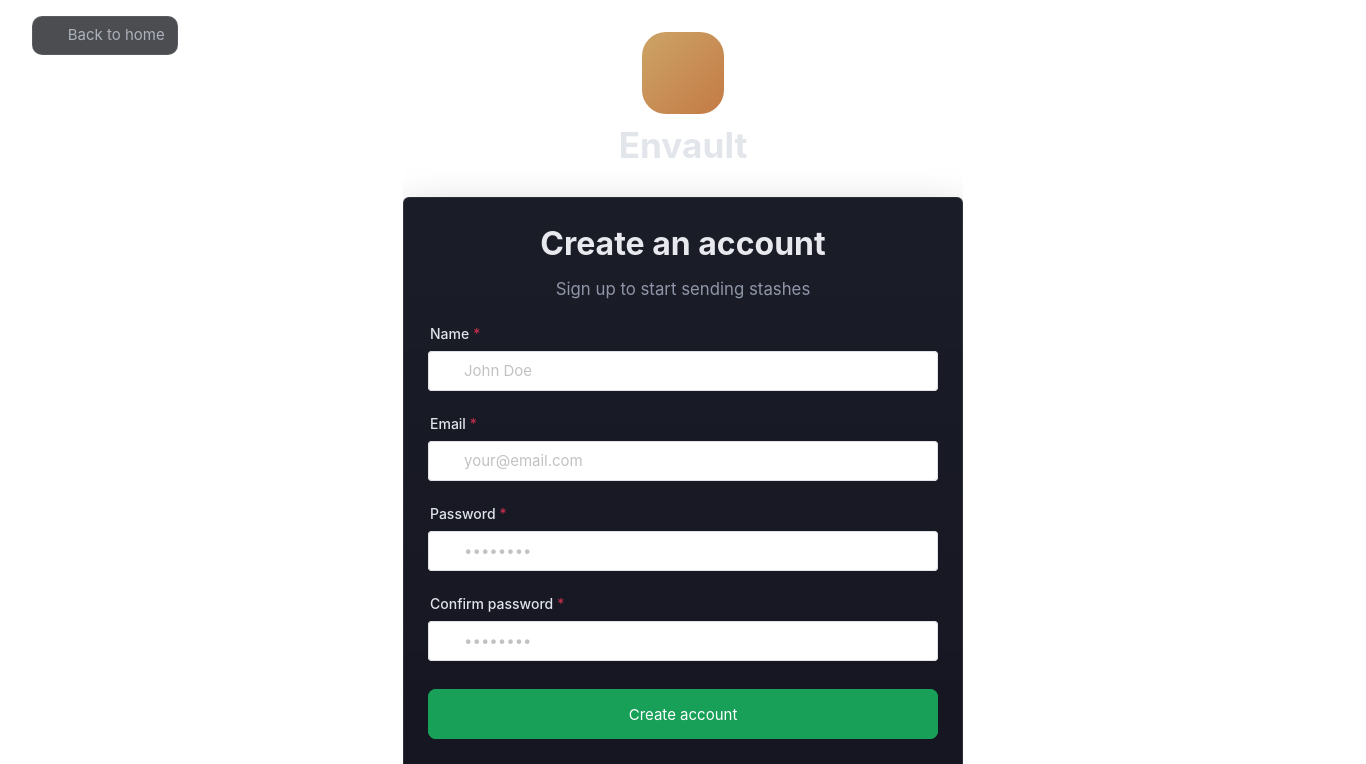
Test: RegisterView.vue › maps known field errors from the server onto the form
The image size is (1366, 764).
Type "Alice" into the field with placeholder "John Doe" at (694, 371), box [464,351,924,391]
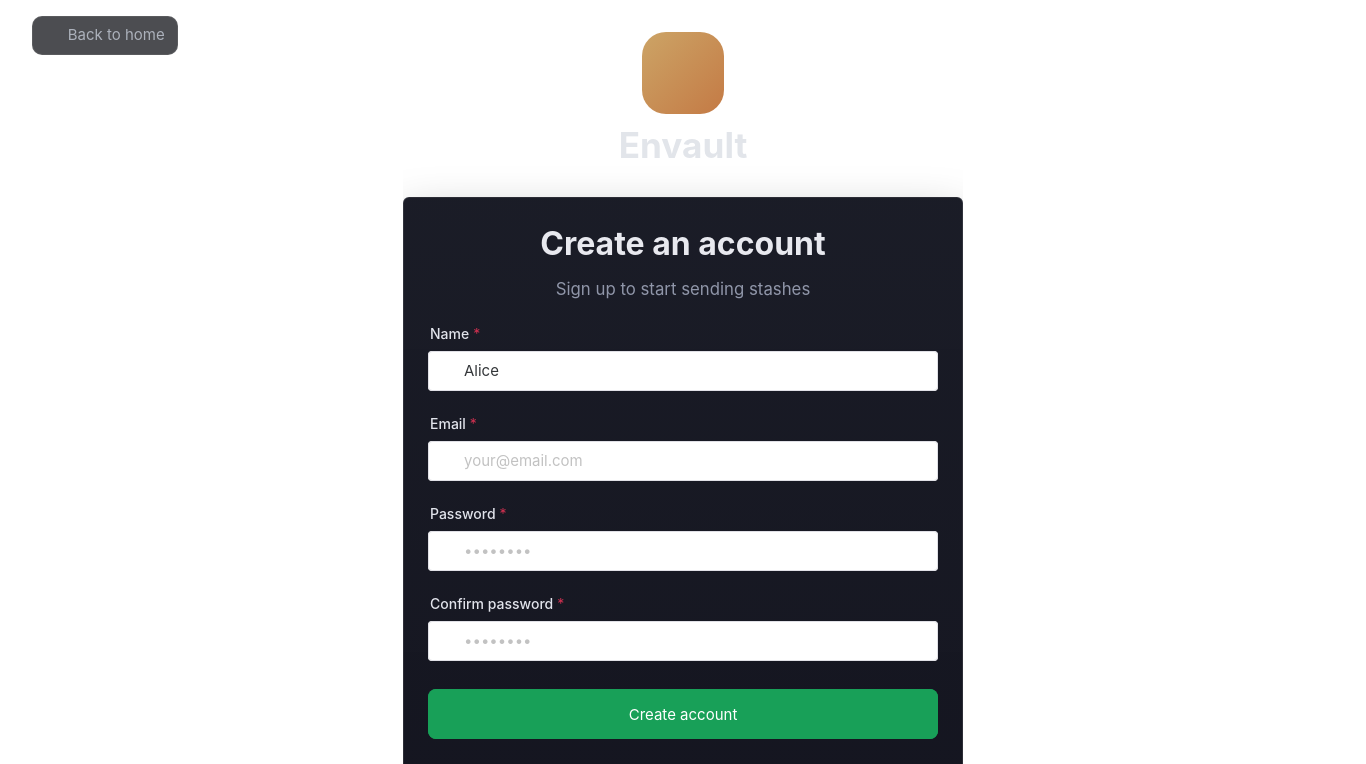
Type "alice@example.com" into the field with placeholder "your@email.com" at (694, 461), box [464,441,924,481]
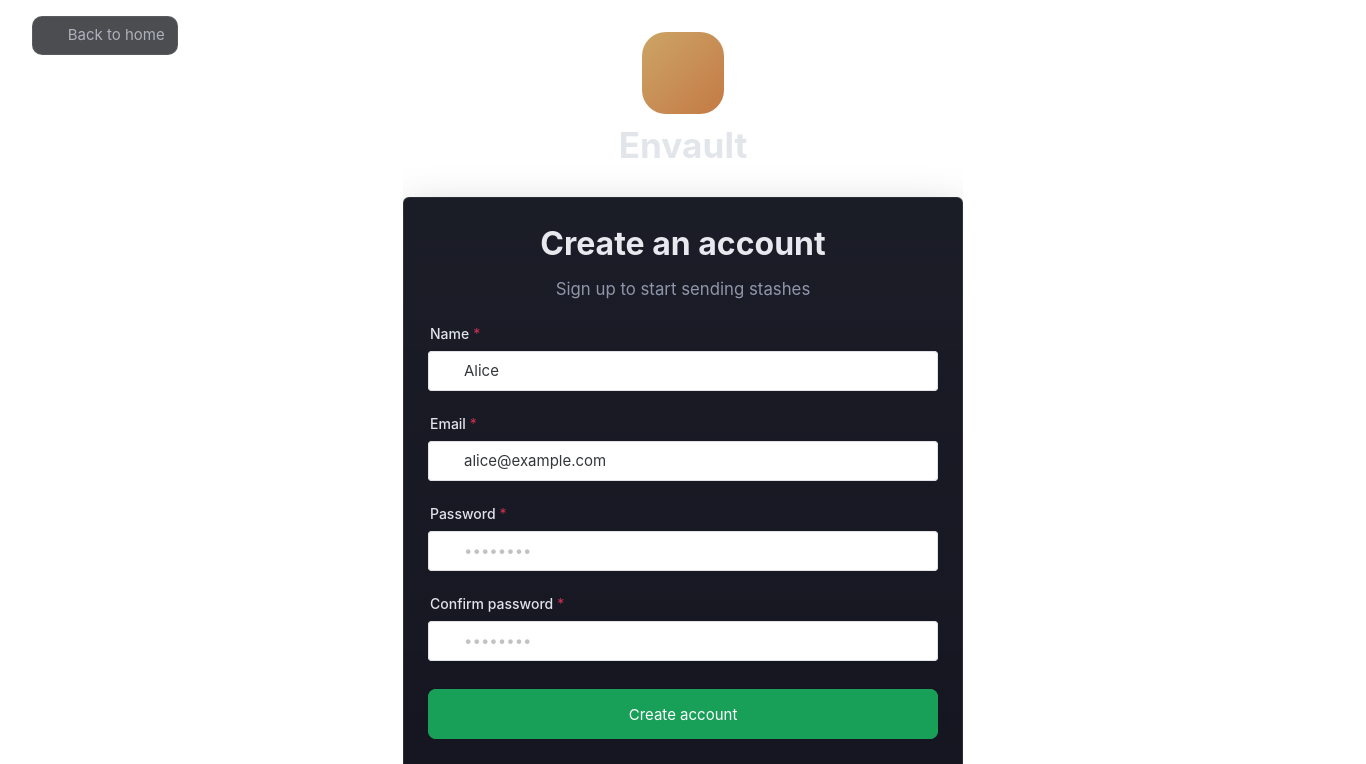
Type "Passw0rd" into the 1st password field with placeholder "••••••••" at (683, 551), box [464,531,902,571]
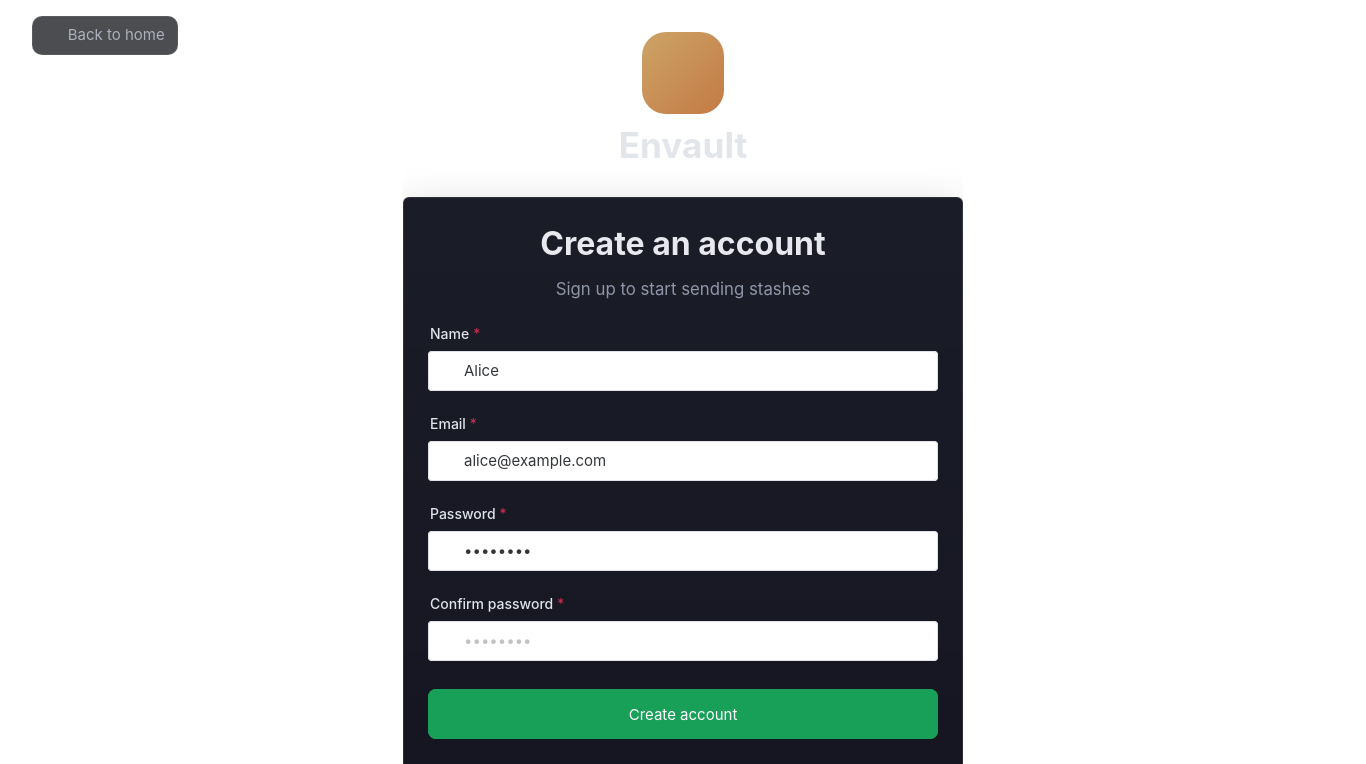
Type "Passw0rd" into the password field with placeholder "••••••••" at (683, 641), box [464,621,902,661]
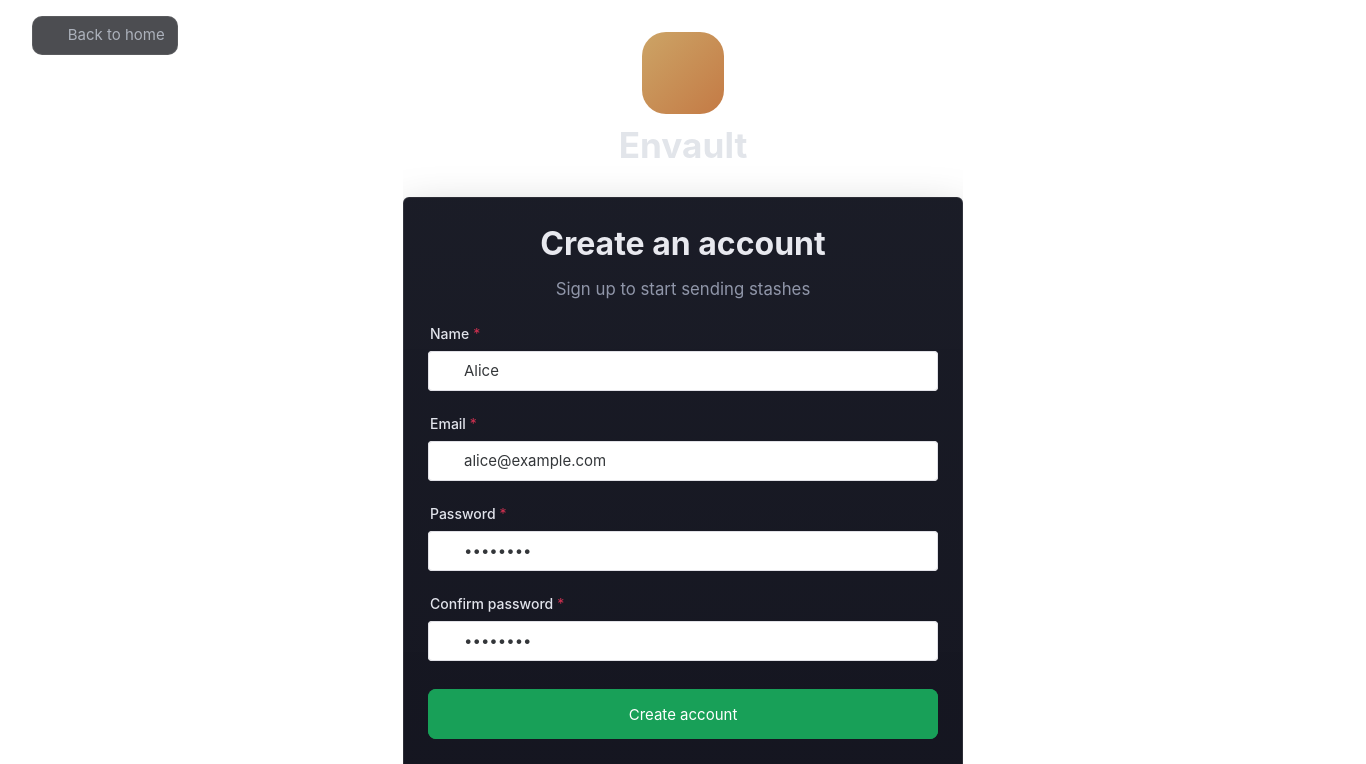
Click the button with class "submit-btn" at (683, 714), box [428,689,938,739]
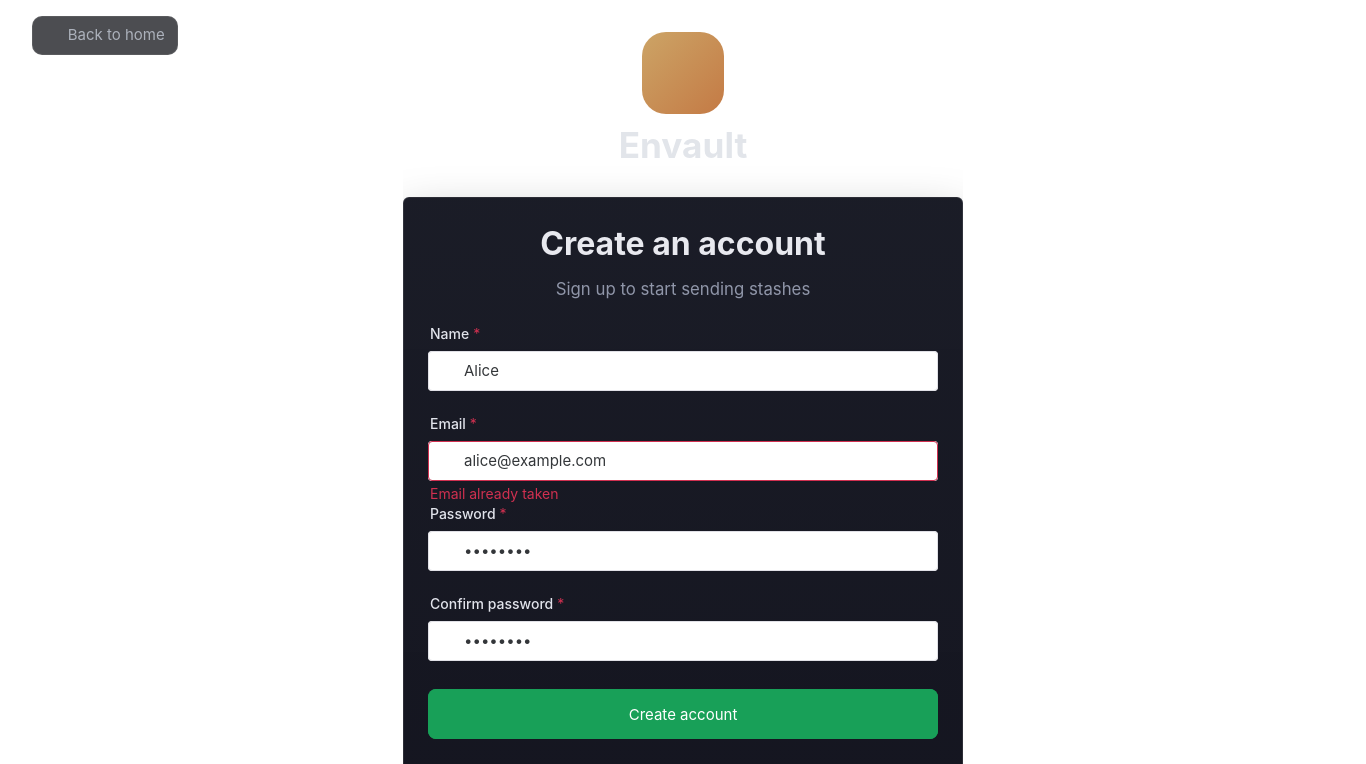
Result: the text "Email already taken" is shown at [430,485,558,502]
